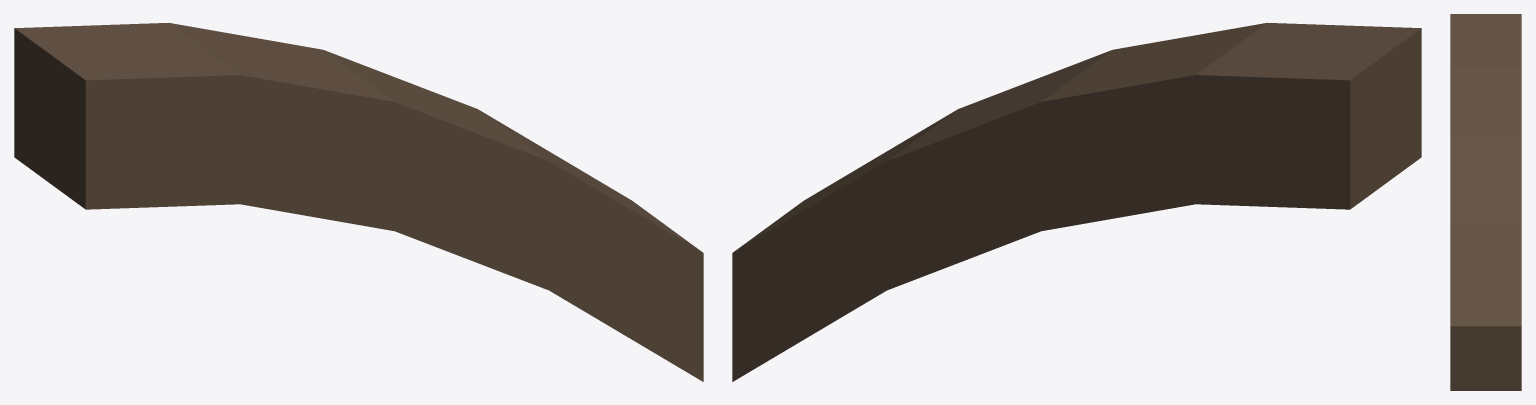
The model's file is Roof_Accent_Rake_Convex.obj.
3 views of the same model, side by side, from view 1: azimuth 30°, elevation 25°; view 2: azimuth 150°, elevation 25°; view 3: azimuth 270°, elevation 25° (orthographic). The views are drawn at different scales.
Visible parts, largest first — view 1: object1; view 2: object1; view 3: object1.
Boxes of the visible parts, box(x1,y1,x2,y2) form: object1: box(14, 22, 703, 381); object1: box(732, 22, 1421, 381); object1: box(1450, 14, 1521, 390).
Bounding box in the file's own units: 1 × 0.7 × 0.2.
